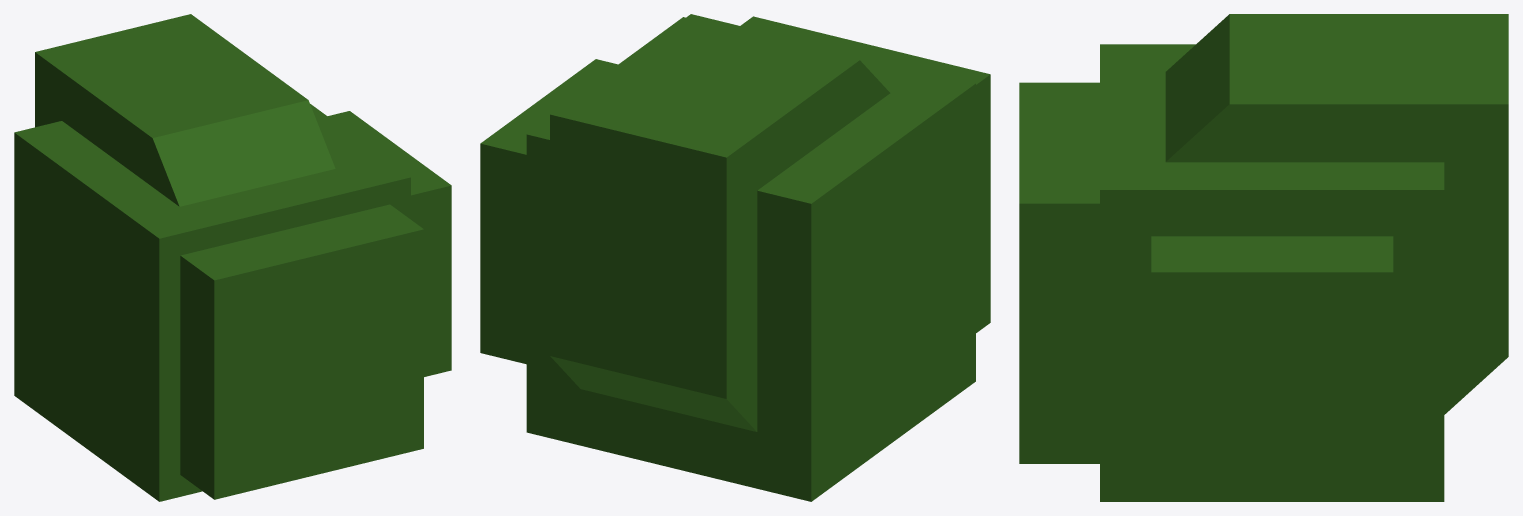
The model's file is eda.fbx.
The picture shows the model from 3 angles, left to right: view 1: azimuth 30°, elevation 25°; view 2: azimuth 150°, elevation 25°; view 3: azimuth 270°, elevation 25°; orthographic projection. The views are drawn at different scales.
Parts seen in each view (by area): view 1: Cube; view 2: Cube; view 3: Cube.
Boxes of the visible parts, left/top/right/bottom form: Cube: left=14, top=14, right=451, bottom=501; Cube: left=480, top=14, right=990, bottom=501; Cube: left=1019, top=14, right=1508, bottom=501.
Bounding box in the file's own units: 250 × 237 × 284.
